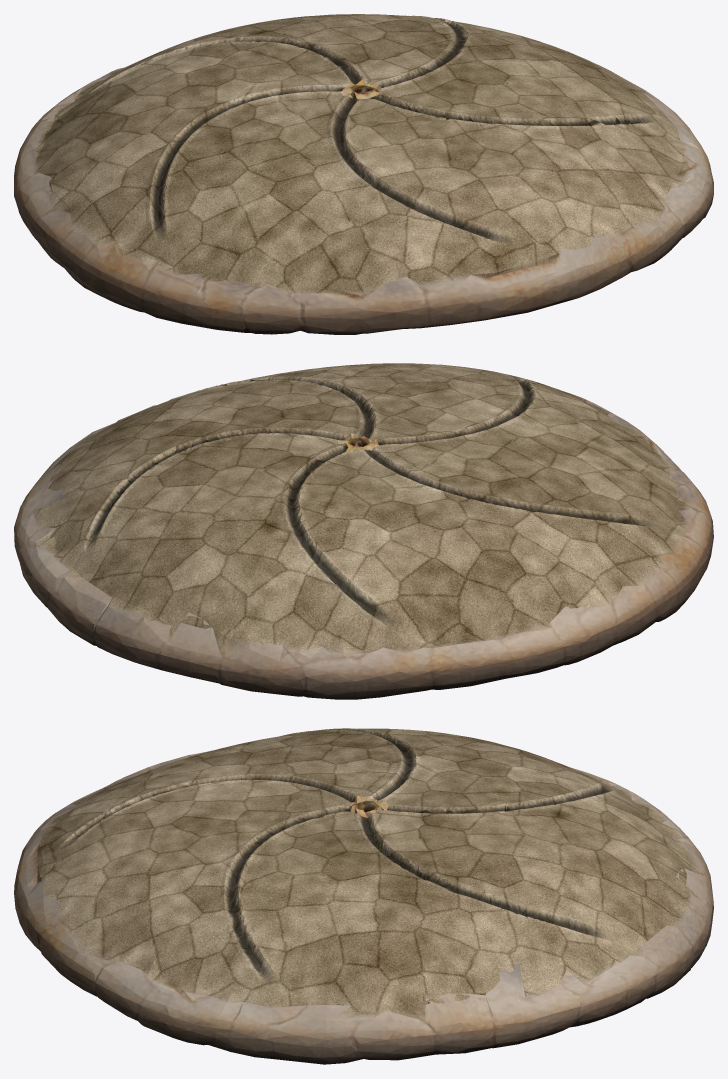
3 views of the same model, one above another, from view 1: azimuth 30°, elevation 25°; view 2: azimuth 150°, elevation 25°; view 3: azimuth 270°, elevation 25° (orthographic).
Parts seen in each view (by area): view 1: world; view 2: world; view 3: world.
Boxes of the visible parts, <box> form: world: <box>14,14,713,334</box>; world: <box>14,363,713,699</box>; world: <box>14,728,713,1064</box>.
Bounding box in the file's own units: 0.9978 × 0.1955 × 0.9964.
2 materials, 2 textured.
